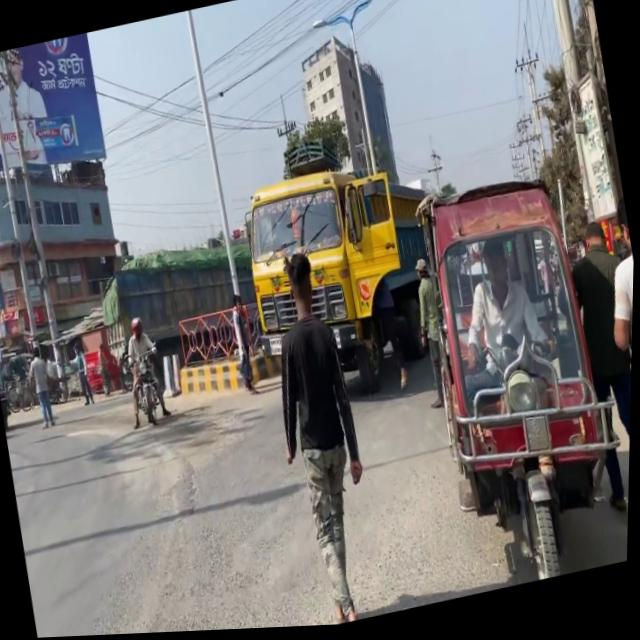Construction-barrier: (177, 349, 272, 405)
Fallen-tree: (120, 344, 174, 432), (3, 369, 38, 415), (116, 351, 138, 394)
Garbage-bin: (250, 246, 394, 631), (547, 220, 636, 524), (586, 201, 636, 562), (406, 258, 459, 414), (225, 293, 263, 398)
Traffic-cone: (401, 164, 637, 600), (228, 123, 462, 420)
